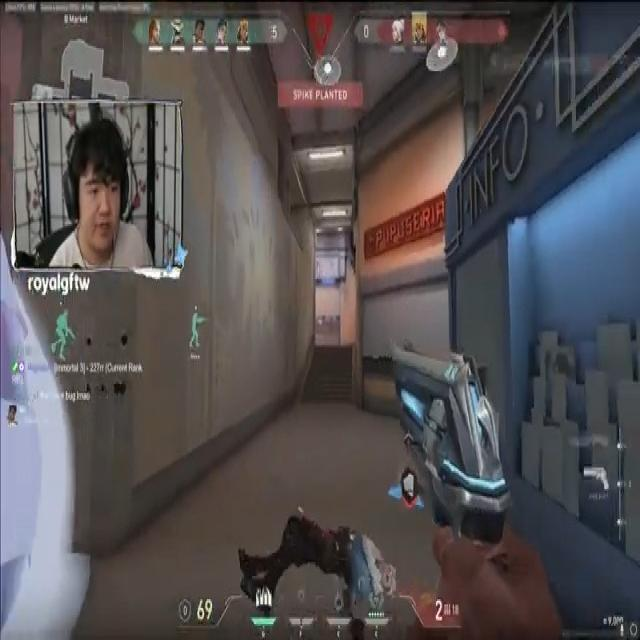ally behind wall: (47, 304, 77, 364), (189, 307, 210, 353)
